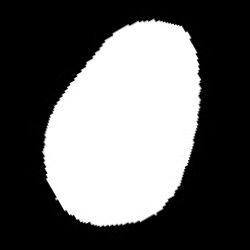spot: (44, 22, 201, 228)
